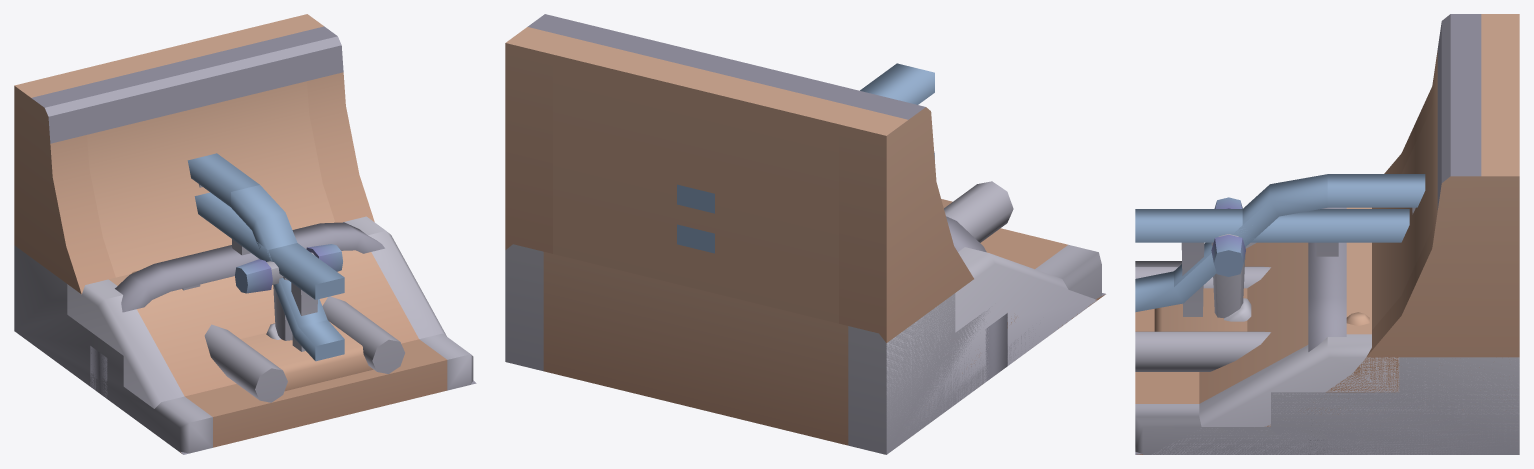
File: skate.glb
The picture shows the model from 3 angles, left to right: view 1: azimuth 30°, elevation 25°; view 2: azimuth 150°, elevation 25°; view 3: azimuth 270°, elevation 25°; orthographic projection. The views are drawn at different scales.
Parts seen in each view (by area): view 1: skate/half-pipe, skate/steps-rail, skate/ramp-rail, skate/obstacle-box-grind, skate/fence, skate/rail-high, skate/scooter; view 2: skate/half-pipe, skate/steps-rail, skate/ramp-rail, skate/rail-high, skate/obstacle-box-grind, skate/fence; view 3: skate/half-pipe, skate/steps-rail, skate/ramp-rail, skate/rail-high, skate/obstacle-box-grind, skate/fence, skate/scooter.
Part boxes in pixels (box(x1,y1,x2,y2)): skate/half-pipe: box(14, 14, 476, 454); skate/steps-rail: box(14, 153, 473, 453); skate/ramp-rail: box(67, 154, 446, 408); skate/obstacle-box-grind: box(204, 296, 404, 402); skate/fence: box(90, 222, 384, 398); skate/rail-high: box(194, 192, 344, 351); skate/scooter: box(235, 244, 342, 340); skate/half-pipe: box(505, 14, 1105, 373); skate/steps-rail: box(505, 153, 1101, 454); skate/ramp-rail: box(604, 152, 1096, 449); skate/rail-high: box(677, 63, 934, 253); skate/obstacle-box-grind: box(941, 181, 1013, 242); skate/fence: box(946, 216, 1007, 381); skate/half-pipe: box(1135, 14, 1519, 454); skate/steps-rail: box(1135, 174, 1519, 454); skate/ramp-rail: box(1135, 186, 1519, 454); skate/rail-high: box(1135, 209, 1409, 316); skate/obstacle-box-grind: box(1135, 266, 1270, 371); skate/fence: box(1308, 207, 1346, 454); skate/scooter: box(1211, 197, 1245, 318).
Bounding box in the file's own units: 1 × 0.8 × 1.
